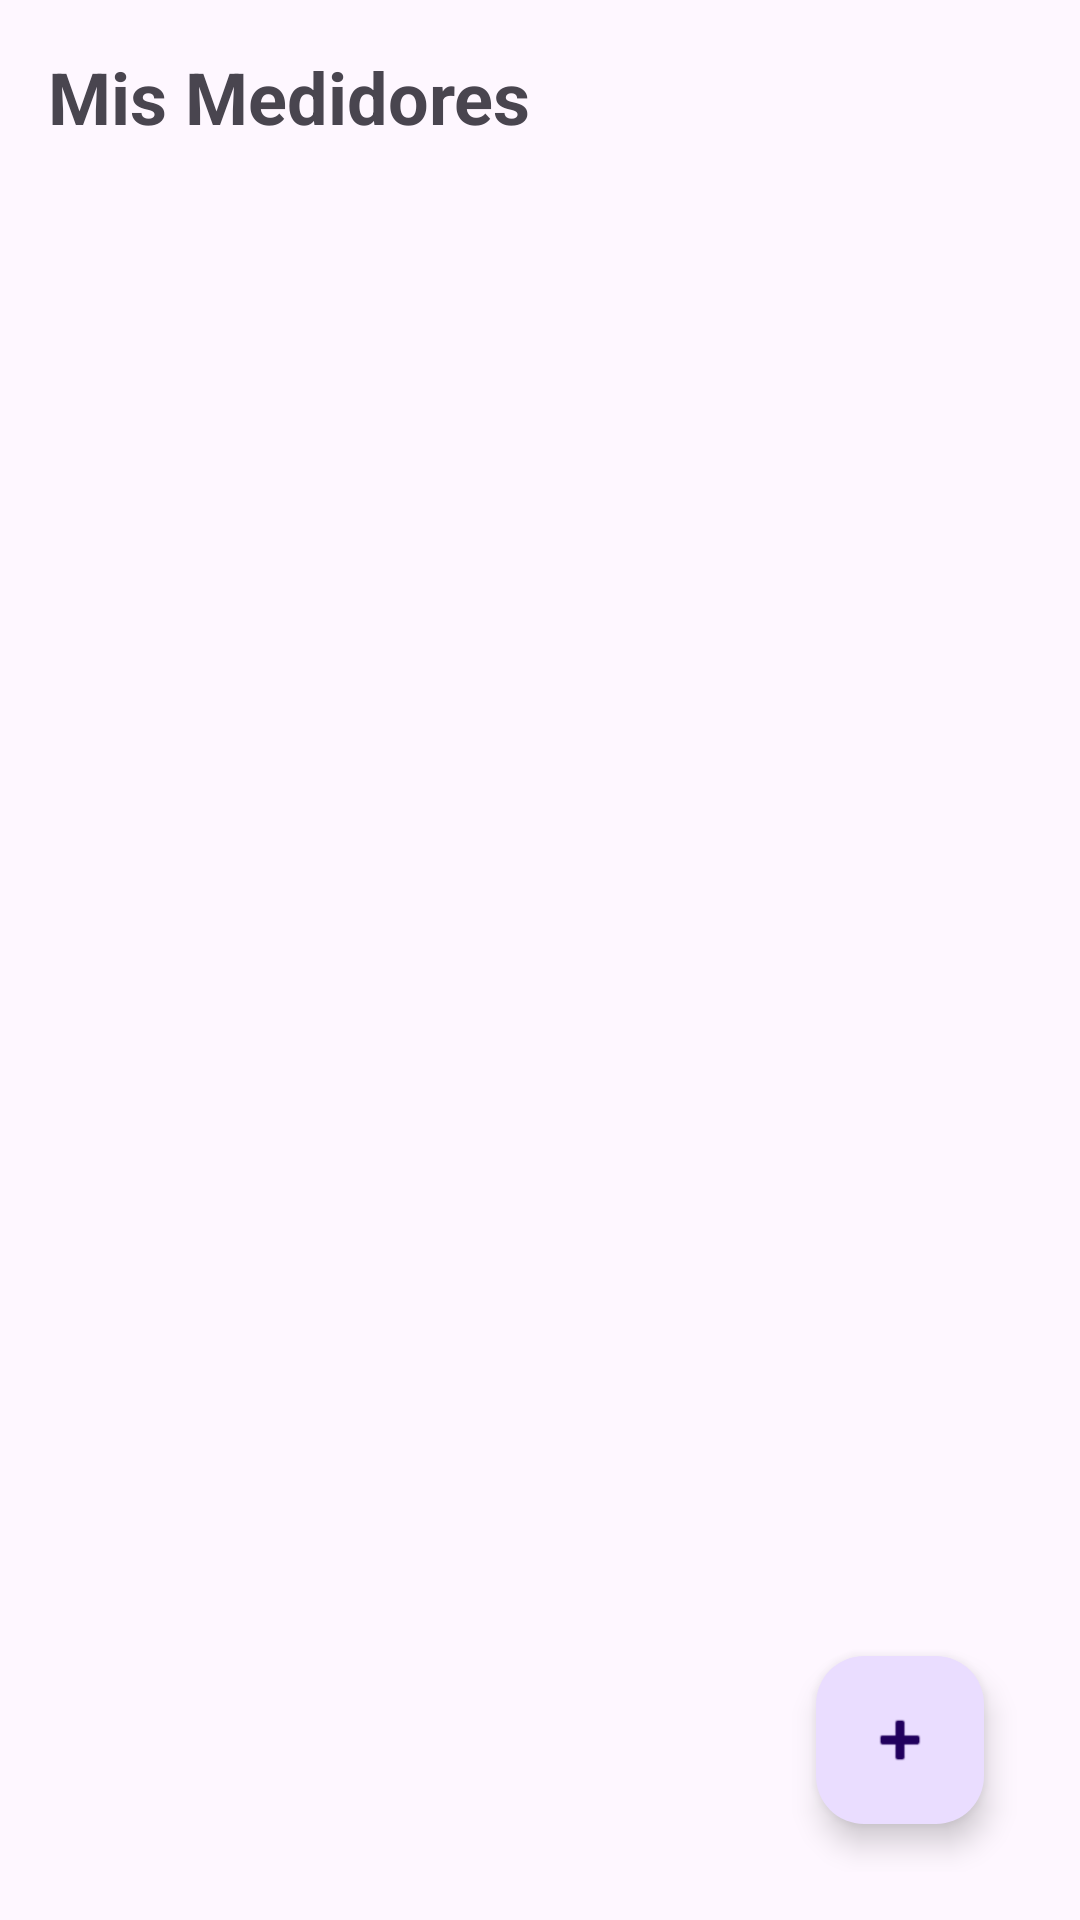

Named icons in this screenshot (1080*1920) and their bounding boxes, (x1, y1, x2, y2):
Boton para agregar nuevo medidor: (816, 1656, 984, 1824)
